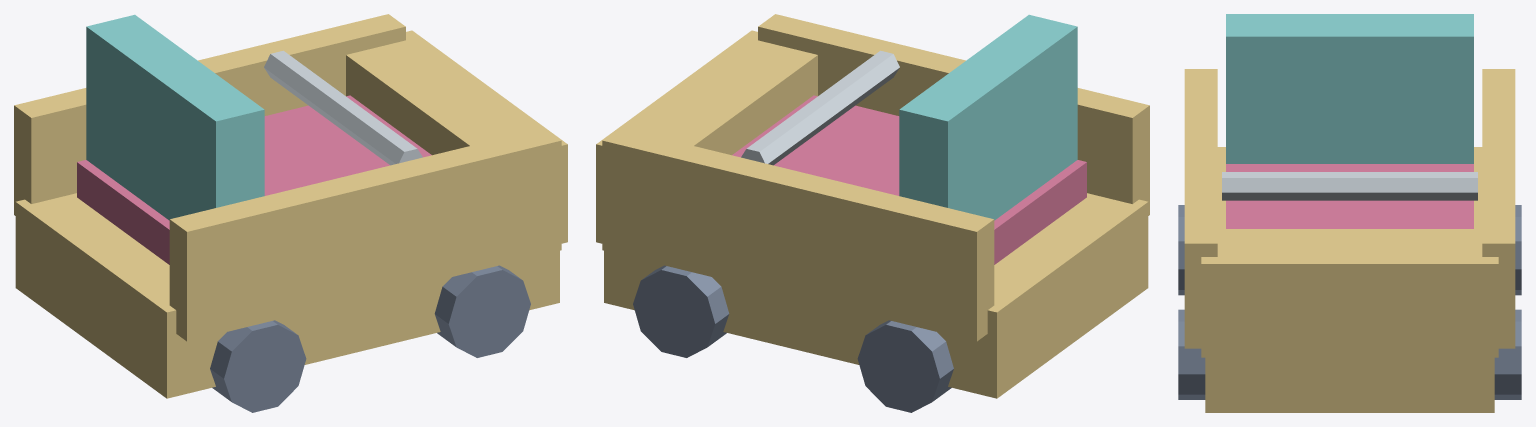
Rendered from montana_rusa_carro.glb.
3 renders of one model, left to right at view 1: azimuth 30°, elevation 25°; view 2: azimuth 150°, elevation 25°; view 3: azimuth 270°, elevation 25°, orthographic. The views are drawn at different scales.
Visible parts, largest first — view 1: montana_rusa_carro; view 2: montana_rusa_carro; view 3: montana_rusa_carro.
Boxes of the visible parts, x1,y1,x2,y2 form: montana_rusa_carro: [14, 14, 567, 412]; montana_rusa_carro: [596, 14, 1149, 412]; montana_rusa_carro: [1178, 14, 1521, 412].
Size of the model in its own units: 1.06 by 0.7046 by 0.83.
